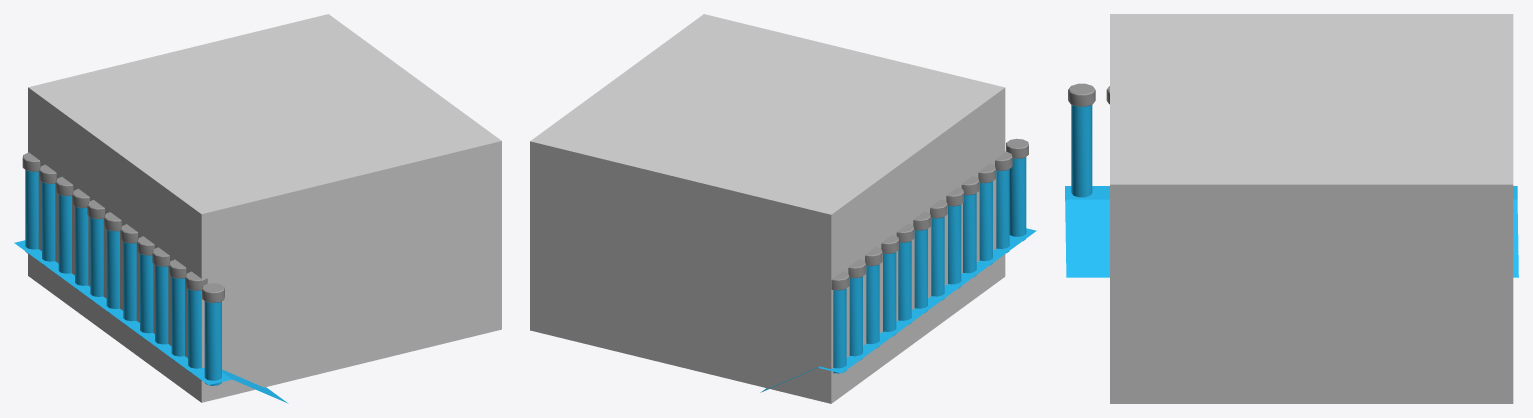
Rendered from SceneNanobot_Draco.glb.
3 views of the same model, side by side, from view 1: azimuth 30°, elevation 25°; view 2: azimuth 150°, elevation 25°; view 3: azimuth 270°, elevation 25° (orthographic). The views are drawn at different scales.
Parts seen in each view (by area): view 1: Cube, shad_tubes-blue (×12), shad_plat (×3); view 2: Cube, shad_tubes-blue (×12), shad_plat (×3); view 3: Cube, shad_pente (×2), shad_tubes-blue, shad_tubes-gris-clair, shad_plat.
Boxes of the visible parts, x1=… form: Cube: x1=28, y1=14, x2=501, y2=402; shad_tubes-blue (×12): x1=25, y1=170, x2=221, y2=385; shad_plat (×3): x1=14, y1=240, x2=231, y2=384; Cube: x1=530, y1=14, x2=1005, y2=403; shad_tubes-blue (×12): x1=833, y1=157, x2=1026, y2=373; shad_plat (×3): x1=818, y1=228, x2=1036, y2=373; Cube: x1=1110, y1=14, x2=1513, y2=403; shad_pente (×2): x1=1065, y1=199, x2=1518, y2=277; shad_tubes-blue: x1=1071, y1=105, x2=1092, y2=197; shad_tubes-gris-clair: x1=1068, y1=83, x2=1095, y2=106; shad_plat: x1=1065, y1=186, x2=1109, y2=199.
Size of the model in its own units: 5.2 by 3.08 by 5.62.
